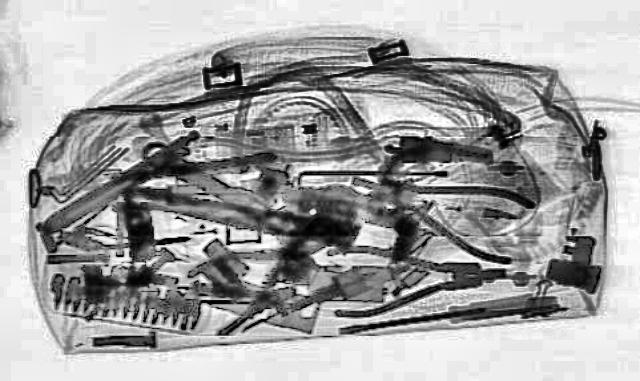Pliers: (322, 150, 566, 266), (140, 214, 360, 336), (317, 236, 521, 318)
Wrench: (119, 130, 353, 258)
